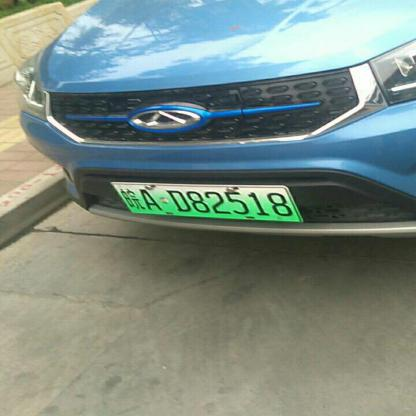lp: (110, 182, 300, 220)
